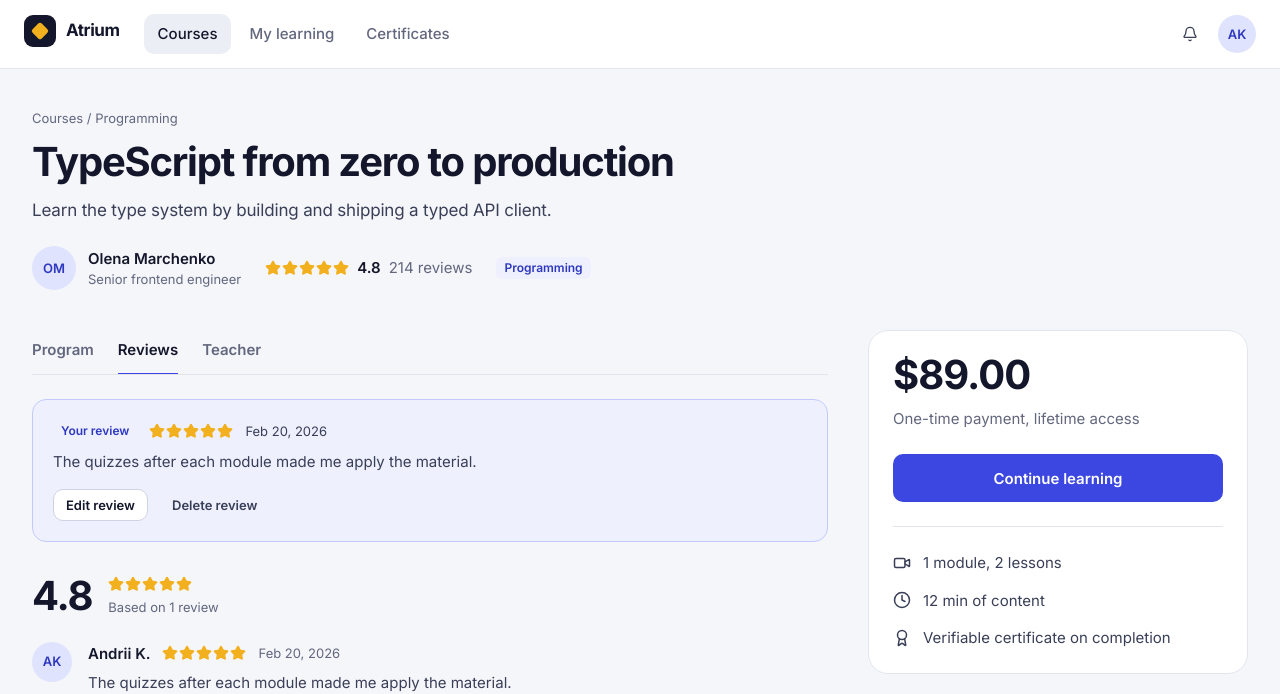
Test: course reviews › edits an existing review
Click the button "Edit review" at (100, 506), box [53,490,148,522]
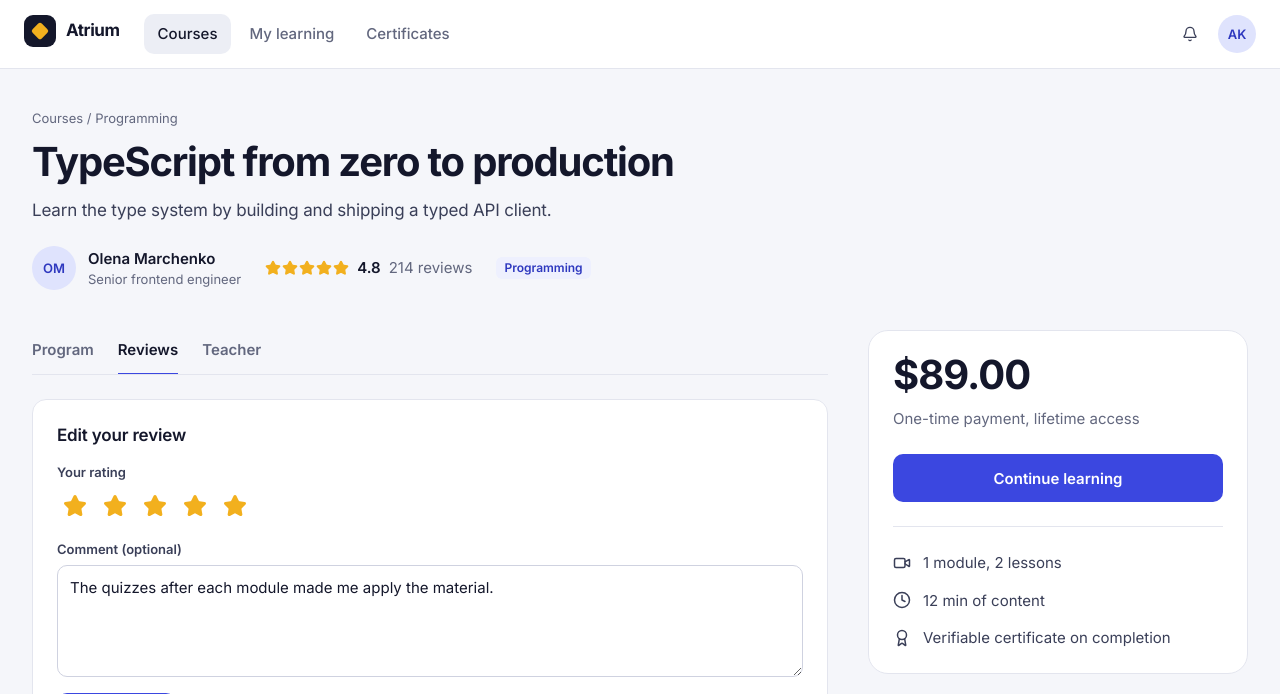
Click the radio button named "3 stars" at (155, 506), box [137,488,173,524]
(page scrolled)
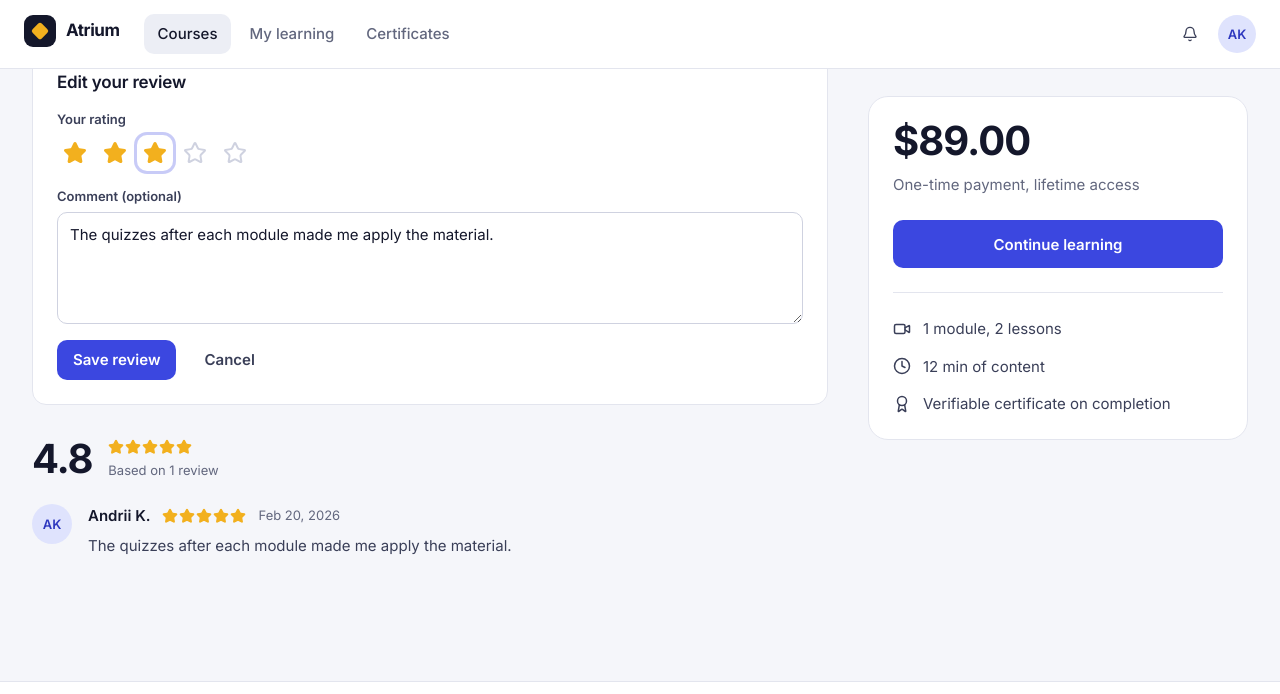
Click the button "Save review" at (117, 360), box [57,340,176,380]
(page scrolled)
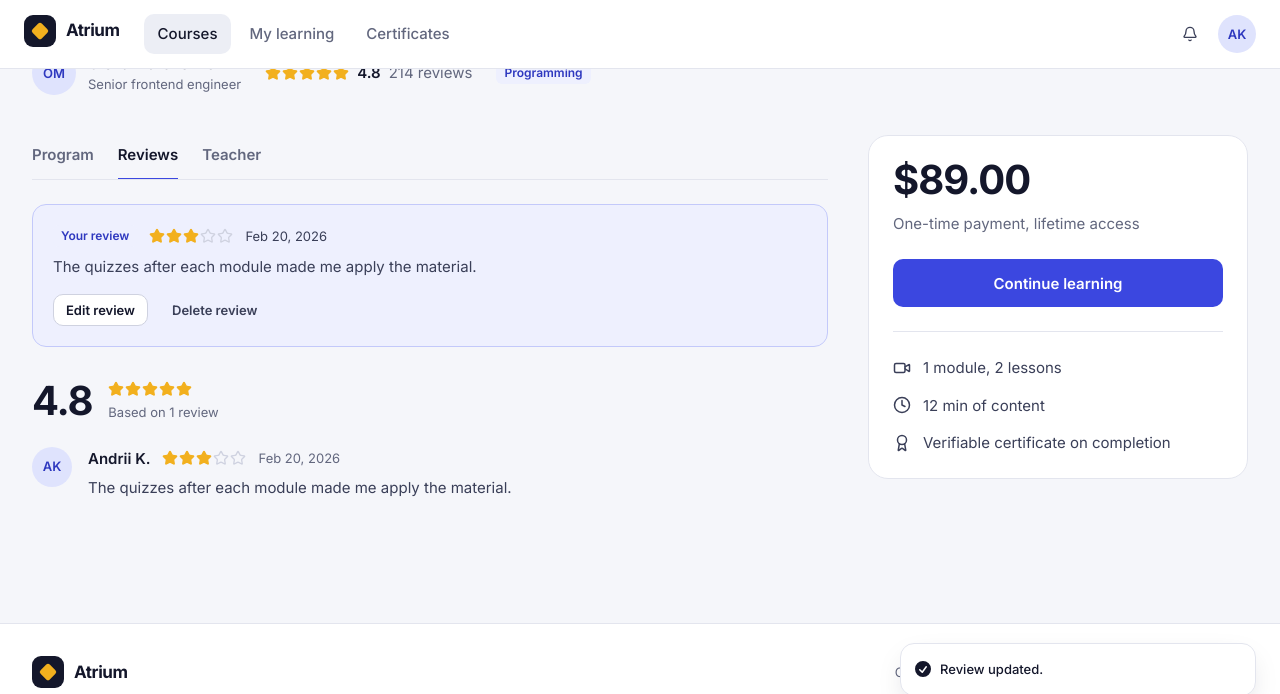
Expected: the picture named "Rated 3.0 out of 5" next to "Your review" is shown, [149,228,233,244]
